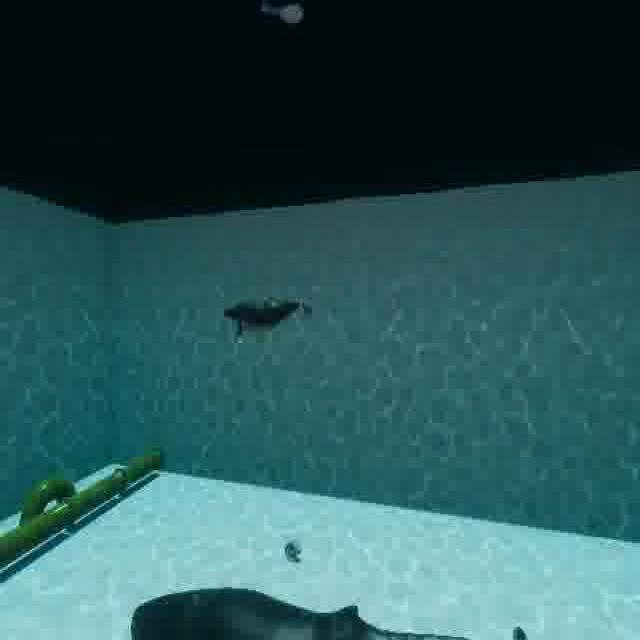Pipe: (0, 413, 160, 573)
Shell: (282, 530, 304, 565)
Whale: (122, 584, 581, 640), (216, 279, 327, 348)
